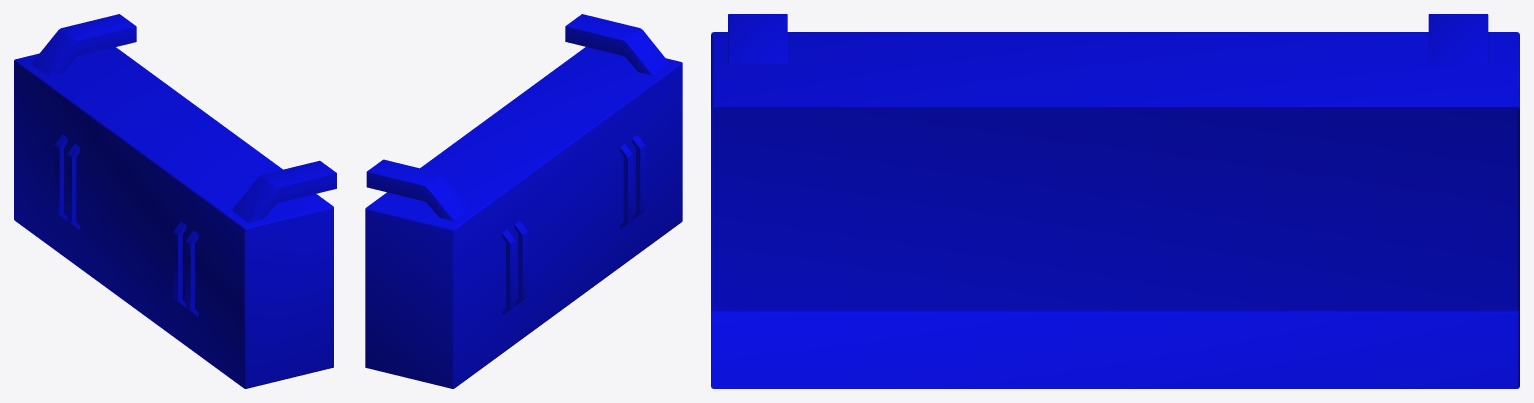
File: Cabinet_Overhead125.FBX
3 renders of one model, left to right at view 1: azimuth 30°, elevation 25°; view 2: azimuth 150°, elevation 25°; view 3: azimuth 270°, elevation 25°, orthographic. The views are drawn at different scales.
Visible parts, largest first — view 1: Cabinet_Overhead_1.25; view 2: Cabinet_Overhead_1.25; view 3: Cabinet_Overhead_1.25.
Boxes of the visible parts, box(x1,y1,x2,y2) form: Cabinet_Overhead_1.25: box(14, 14, 336, 388); Cabinet_Overhead_1.25: box(365, 14, 682, 388); Cabinet_Overhead_1.25: box(711, 14, 1519, 388).
Size of the model in its own units: 12.88 by 22.25 by 49.21.
